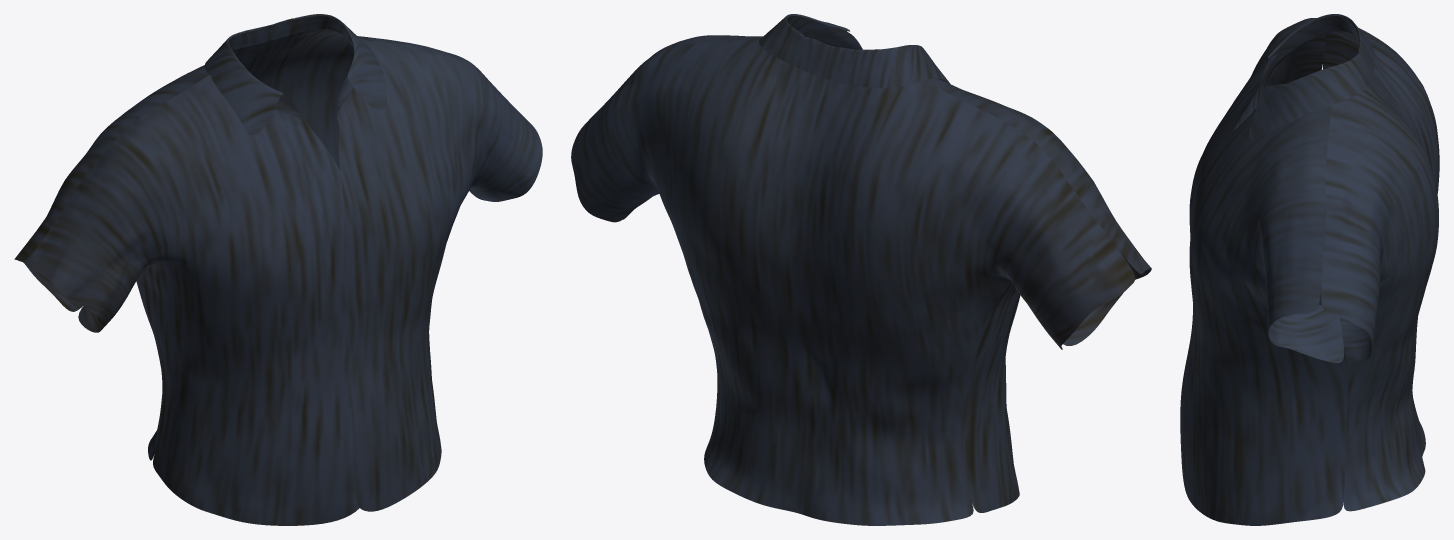
The model's file is SM_XLM.dae.
The picture shows the model from 3 angles, left to right: view 1: azimuth 30°, elevation 25°; view 2: azimuth 150°, elevation 25°; view 3: azimuth 270°, elevation 25°; orthographic projection. The views are drawn at different scales.
Visible parts, largest first — view 1: shortshirt; view 2: shortshirt; view 3: shortshirt.
Part boxes in pixels (<box>): shortshirt: <box>14,14,542,525</box>; shortshirt: <box>571,14,1151,525</box>; shortshirt: <box>1180,14,1439,525</box>.
Size of the model in its own units: 6.68 by 5.5 by 2.91.
